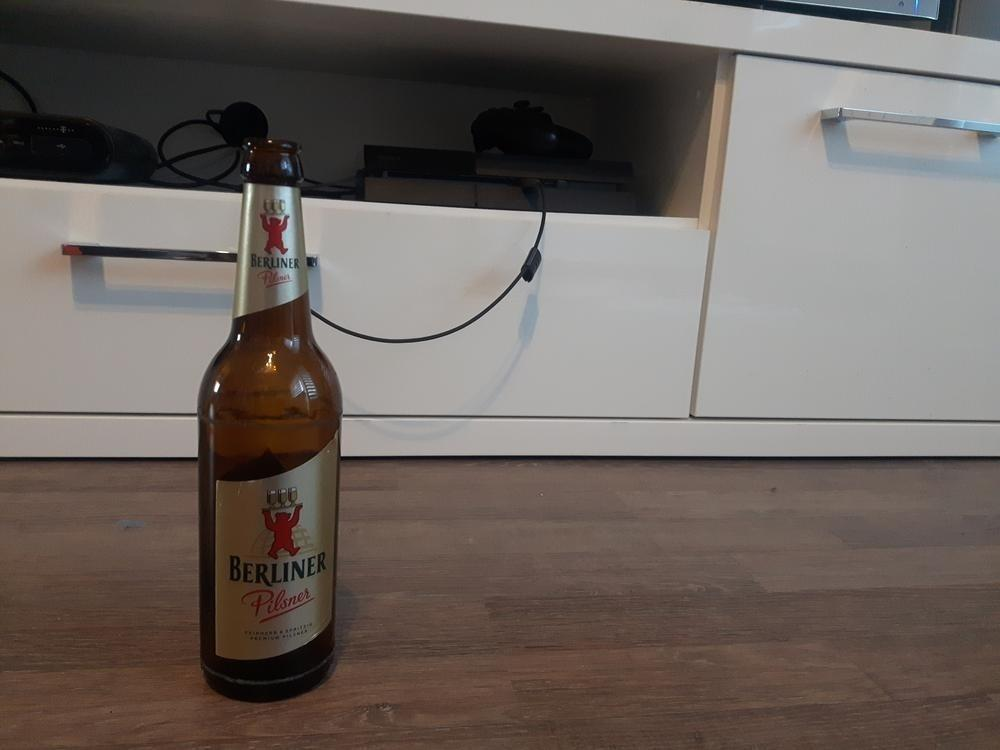bottle-glass: (196, 135, 343, 706)
